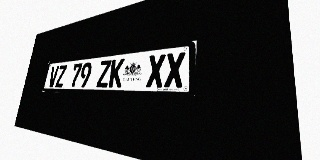7: (69, 63, 83, 87)
9: (79, 62, 93, 87)
K: (108, 58, 125, 87)
V: (48, 66, 59, 87)
X: (164, 51, 185, 87), (146, 54, 166, 87)
Z: (96, 60, 112, 87), (55, 65, 67, 87)
